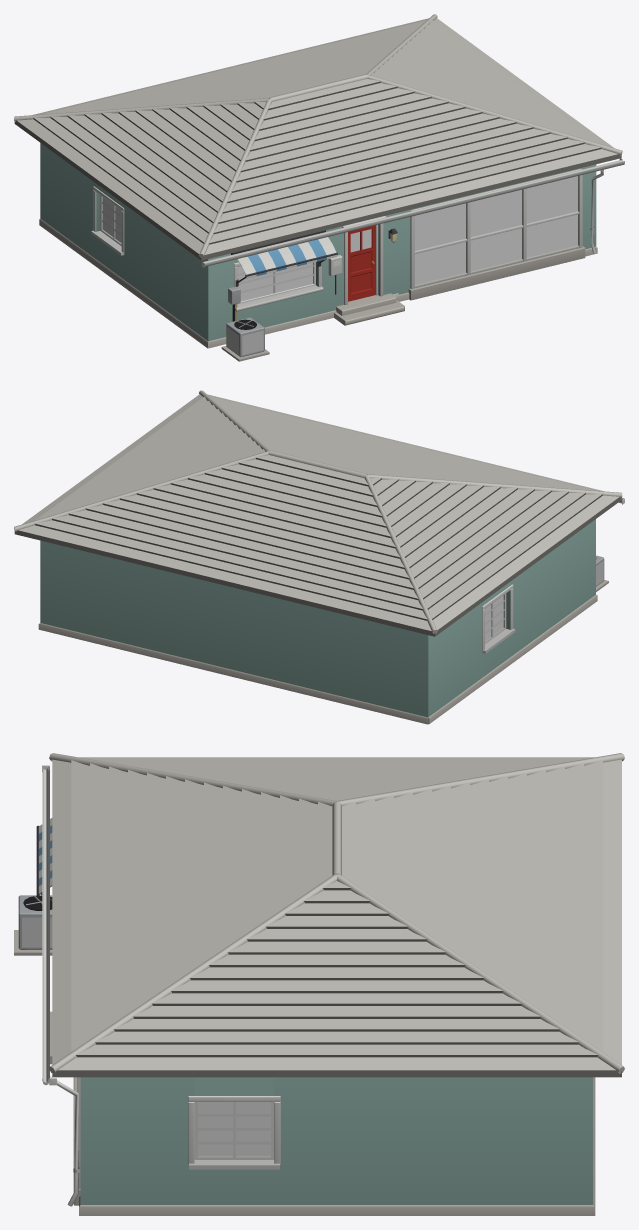
The model's file is RanchFL.fbx.
The picture shows the model from 3 angles, top to bottom: view 1: azimuth 30°, elevation 25°; view 2: azimuth 150°, elevation 25°; view 3: azimuth 270°, elevation 25°; orthographic projection. The views are drawn at different scales.
Parts seen in each view (by area): view 1: RanchFL; view 2: RanchFL; view 3: RanchFL.
Part boxes in pixels (x1,y1,x2,y2): RanchFL: [14, 14, 624, 361]; RanchFL: [14, 390, 624, 724]; RanchFL: [14, 753, 624, 1215].
Size of the model in its own units: 13.11 by 4.51 by 10.72.
